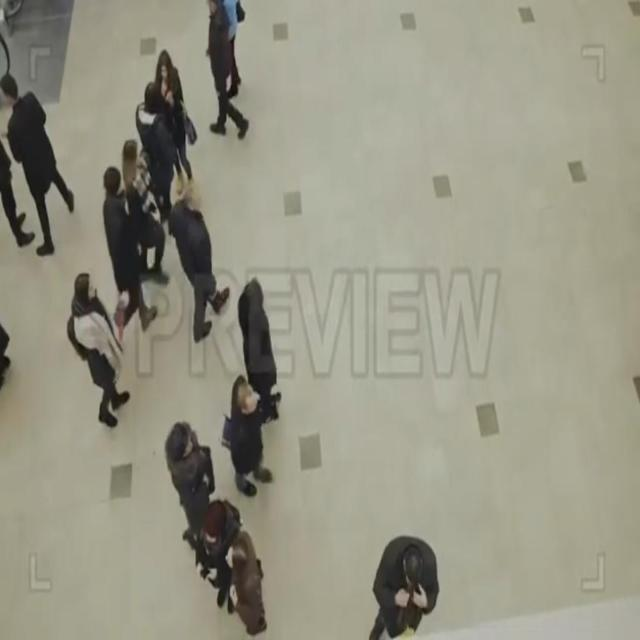humans: (0, 65, 75, 258), (63, 263, 132, 431), (167, 173, 233, 341), (97, 163, 161, 332), (366, 532, 441, 640), (239, 278, 291, 420), (202, 0, 251, 147), (161, 414, 218, 530), (222, 375, 272, 503), (133, 80, 180, 199), (155, 44, 200, 168), (221, 528, 267, 640), (118, 131, 164, 229), (192, 487, 236, 580), (2, 144, 34, 258), (222, 0, 250, 100)
